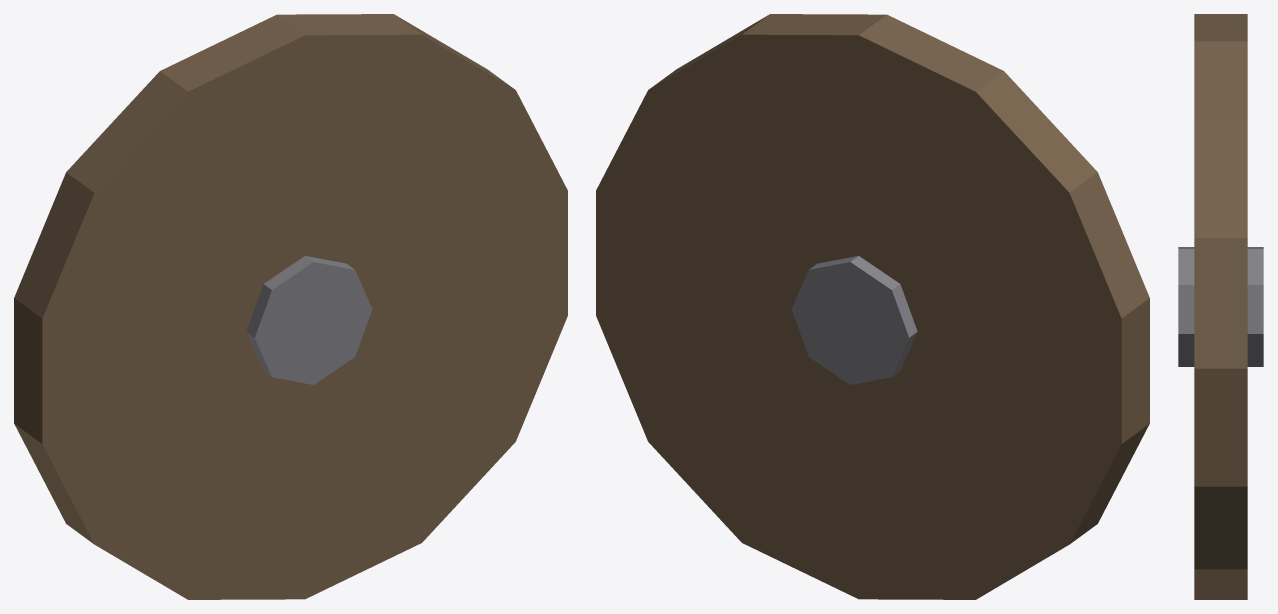
File: wheel_spare.glb
3 renders of one model, left to right at view 1: azimuth 30°, elevation 25°; view 2: azimuth 150°, elevation 25°; view 3: azimuth 270°, elevation 25°, orthographic. The views are drawn at different scales.
Parts seen in each view (by area): view 1: wheel_spare; view 2: wheel_spare; view 3: wheel_spare.
Boxes of the visible parts, bbox=[...] form: wheel_spare: bbox=[14, 14, 567, 599]; wheel_spare: bbox=[596, 14, 1149, 599]; wheel_spare: bbox=[1178, 14, 1263, 599].
Bounding box in the file's own units: 1.07 × 1.1 × 0.16.
